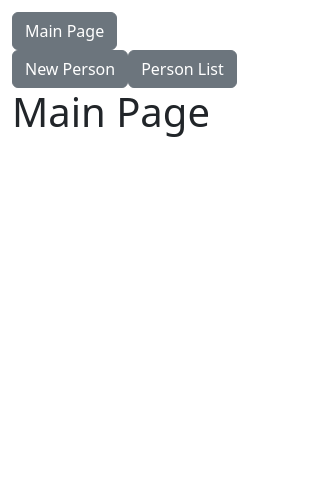
Test case: Prson Testler › If entered  passingname and failing email - email error shown and email error text correct?
This screenshot has width=332, height=497.
Click the button with test id "newPersonBtn": (70, 69) [12,50,128,88]
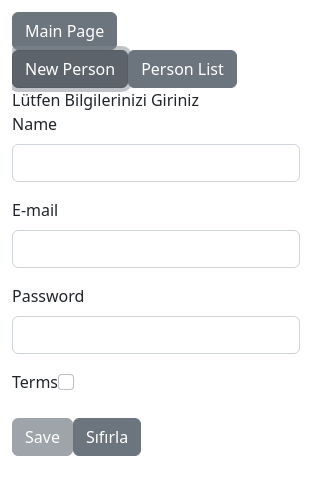
In the field with test id "newPersonSaveName": (156, 163) [12,144,300,182], type "Serkan"
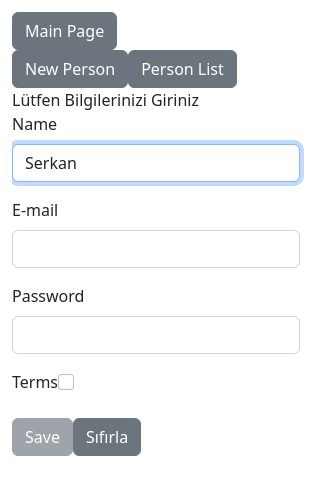
In the field with test id "newPersonSaveEmail": (156, 249) [12,230,300,268], type "serkanhotmail.com"
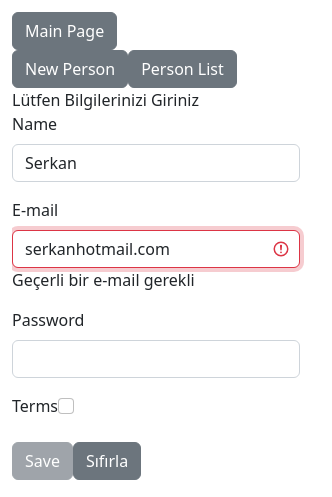
Expected: the number of elements with test id "Error" is 1, [12,269,195,291]
Expected: the text with test id "Error" reads "Geçerli bir e-mail gerekli", [12,269,195,291]
